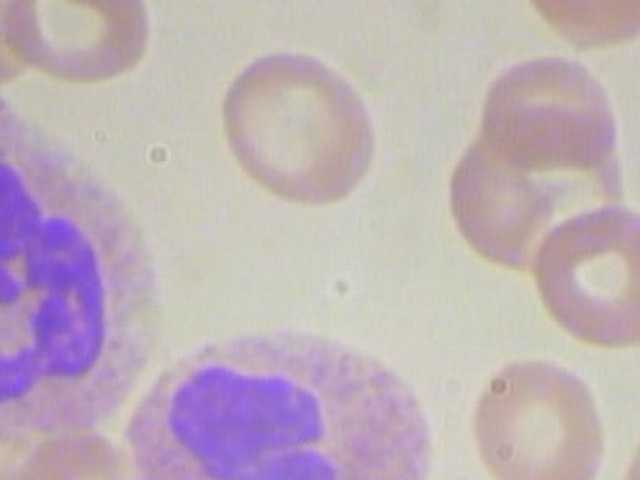RBC: (208, 44, 393, 219), (437, 339, 622, 480), (468, 35, 634, 180), (518, 201, 640, 345), (0, 0, 165, 90), (510, 0, 640, 52), (590, 392, 640, 480)
WBC: (0, 88, 171, 460), (121, 319, 464, 480)
